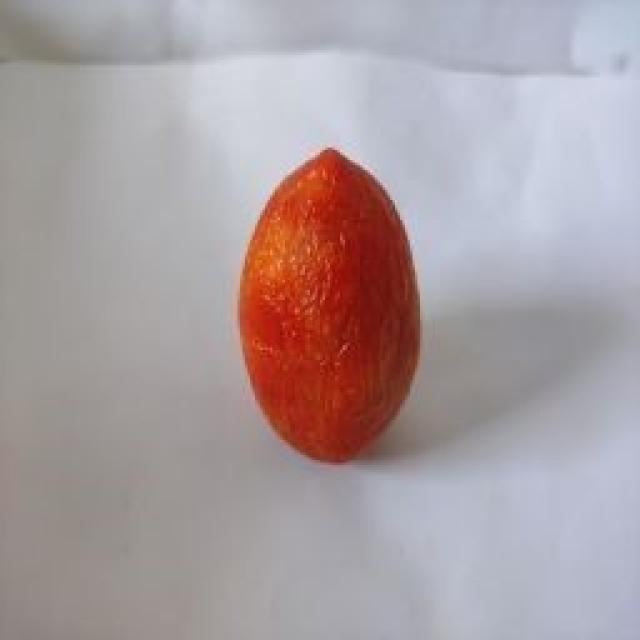overripe: (232, 143, 427, 466)
